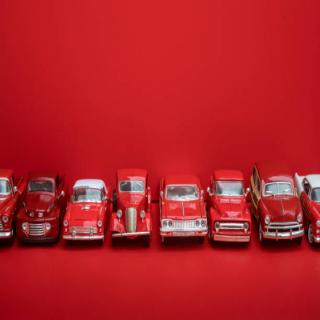Normal_vehicle: (248, 154, 302, 256), (204, 162, 250, 244), (158, 169, 207, 245), (109, 166, 156, 243), (23, 170, 66, 244), (66, 174, 110, 244), (287, 159, 320, 243), (0, 167, 25, 242)
